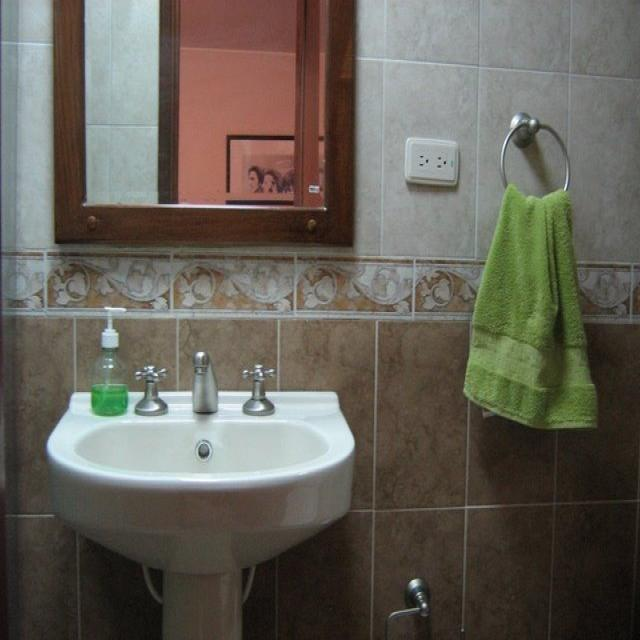faucet handle: (192, 349, 218, 415)
mirror crop: (53, 0, 357, 247)
power outlet: (403, 137, 459, 185)
soap bottle: (90, 304, 127, 416)
tap: (240, 360, 280, 417), (133, 363, 169, 415)
towel: (496, 108, 575, 204)
towel basket: (463, 180, 594, 429)
wall clock: (1, 0, 639, 639)
wall window: (373, 317, 472, 512), (277, 316, 376, 511), (466, 399, 556, 508), (294, 251, 414, 319), (170, 251, 295, 316)
wash basin: (48, 391, 348, 479)
